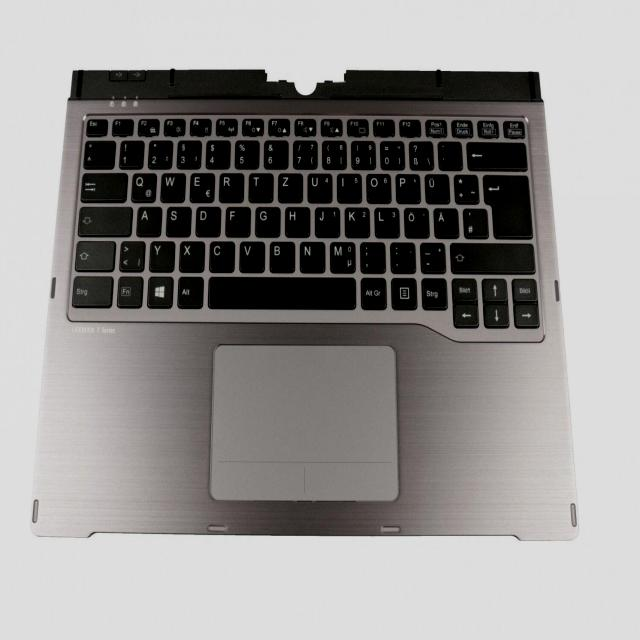0: (378, 139, 404, 169)
1: (118, 138, 144, 167)
2: (147, 138, 173, 167)
3: (175, 138, 201, 167)
4: (205, 138, 230, 167)
5: (233, 139, 259, 167)
6: (263, 138, 288, 167)
7: (292, 139, 318, 168)
8: (321, 139, 347, 168)
9: (350, 139, 376, 169)
a: (135, 204, 161, 235)
accent: (436, 139, 462, 168)
ae: (433, 205, 459, 237)
alt-left: (176, 275, 202, 307)
altgr-right: (360, 275, 386, 307)
b: (268, 239, 295, 271)
c: (208, 239, 234, 271)
caret: (83, 139, 115, 167)
comma: (359, 240, 385, 272)
d: (194, 204, 220, 236)
del: (465, 139, 527, 168)
e: (188, 170, 214, 202)
enter: (482, 172, 533, 238)
f: (224, 205, 250, 236)
g: (253, 204, 279, 236)
h: (284, 205, 310, 236)
hash: (462, 206, 488, 238)
i: (336, 171, 362, 202)
j: (313, 205, 339, 236)
k: (344, 204, 370, 236)
keyboard: (66, 110, 546, 344)
l: (373, 205, 399, 237)
less: (119, 238, 145, 270)
m: (329, 240, 355, 272)
minus: (419, 240, 445, 272)
n: (299, 240, 325, 272)
o: (365, 171, 391, 202)
oe: (403, 205, 429, 237)
p: (394, 171, 420, 202)
plus: (453, 172, 479, 202)
point: (388, 240, 415, 272)
q: (130, 170, 156, 200)
r: (218, 171, 244, 201)
s: (164, 204, 190, 235)
shift-left: (73, 238, 115, 270)
shift-lock: (76, 203, 132, 235)
shift-right: (448, 240, 534, 272)
space: (207, 275, 355, 307)
ss: (407, 139, 433, 169)
strg-left: (69, 273, 113, 307)
strg-right: (420, 276, 446, 308)
t: (247, 170, 273, 202)
tab: (80, 170, 127, 201)
u: (306, 171, 332, 203)
ue: (423, 171, 449, 202)
v: (238, 239, 264, 271)
w: (159, 170, 185, 201)
x: (178, 239, 204, 271)
y: (149, 239, 175, 271)
z: (277, 171, 303, 201)
